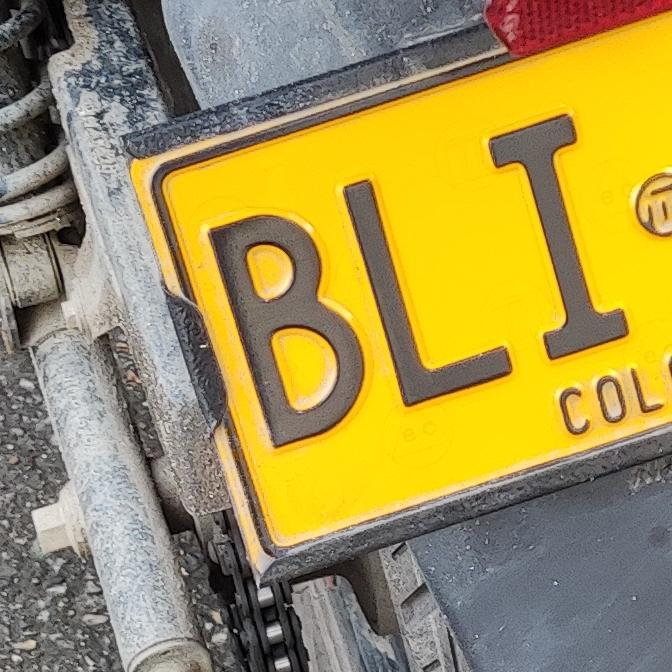plates: (123, 0, 672, 589)
